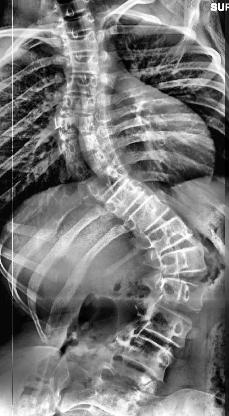Vertebrae: (118, 333, 176, 383), (91, 362, 155, 404), (138, 302, 198, 346), (78, 162, 140, 200), (98, 179, 158, 215), (154, 276, 214, 312), (142, 218, 198, 252), (154, 245, 210, 278), (124, 196, 171, 235), (64, 150, 118, 180), (58, 132, 110, 158), (60, 70, 106, 96), (52, 116, 102, 139), (60, 50, 104, 74), (53, 13, 99, 35), (56, 93, 100, 116), (57, 32, 102, 53), (50, 0, 96, 18)
